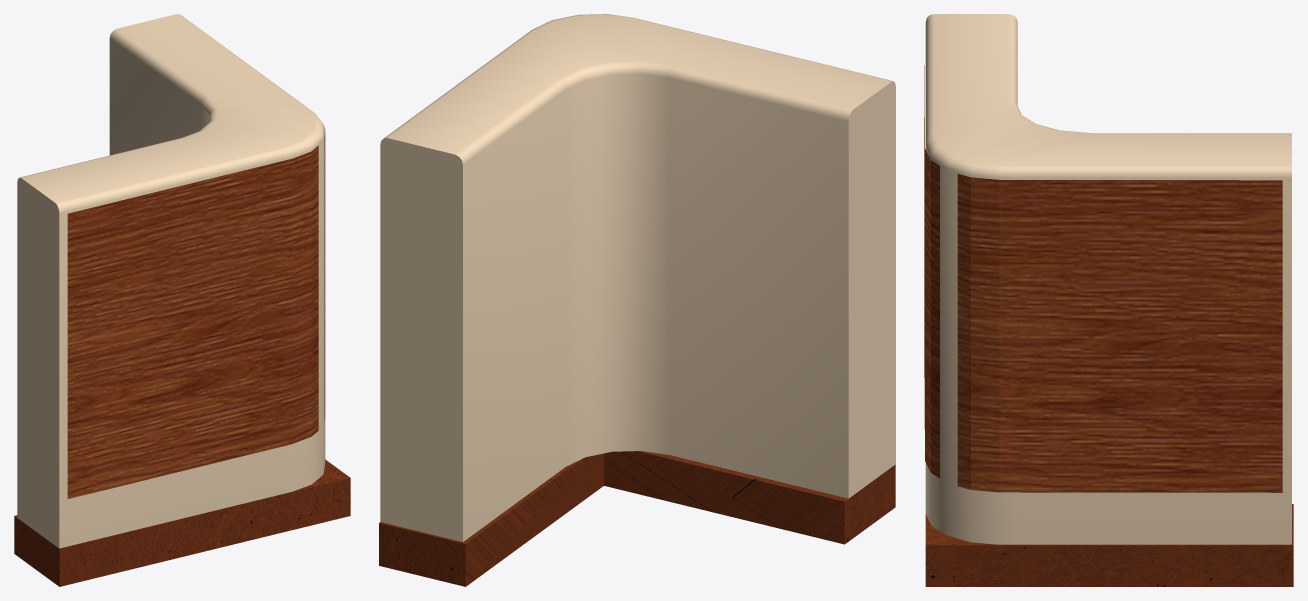
The model's file is Wall_Corner_O_1.glb.
3 views of the same model, side by side, from view 1: azimuth 30°, elevation 25°; view 2: azimuth 150°, elevation 25°; view 3: azimuth 270°, elevation 25° (orthographic). The views are drawn at different scales.
Visible parts, largest first — view 1: Plane.004, Cube.005, Cube, Plane.006; view 2: Cube.005, Cube; view 3: Plane.006, Cube.005, Cube, Plane.004.
Part boxes in pixels (x1,y1,x2,y2): Plane.004: [67, 145, 318, 498]; Cube.005: [17, 14, 325, 548]; Cube: [14, 459, 350, 586]; Plane.006: [324, 132, 325, 420]; Cube.005: [380, 14, 895, 541]; Cube: [379, 451, 895, 586]; Plane.006: [957, 174, 1282, 492]; Cube.005: [925, 14, 1291, 544]; Cube: [925, 504, 1293, 586]; Plane.004: [924, 65, 939, 478].
Bounding box in the file's own units: 2.01 × 2.5 × 2.01.
Materials: 3 (3 with a texture image).
